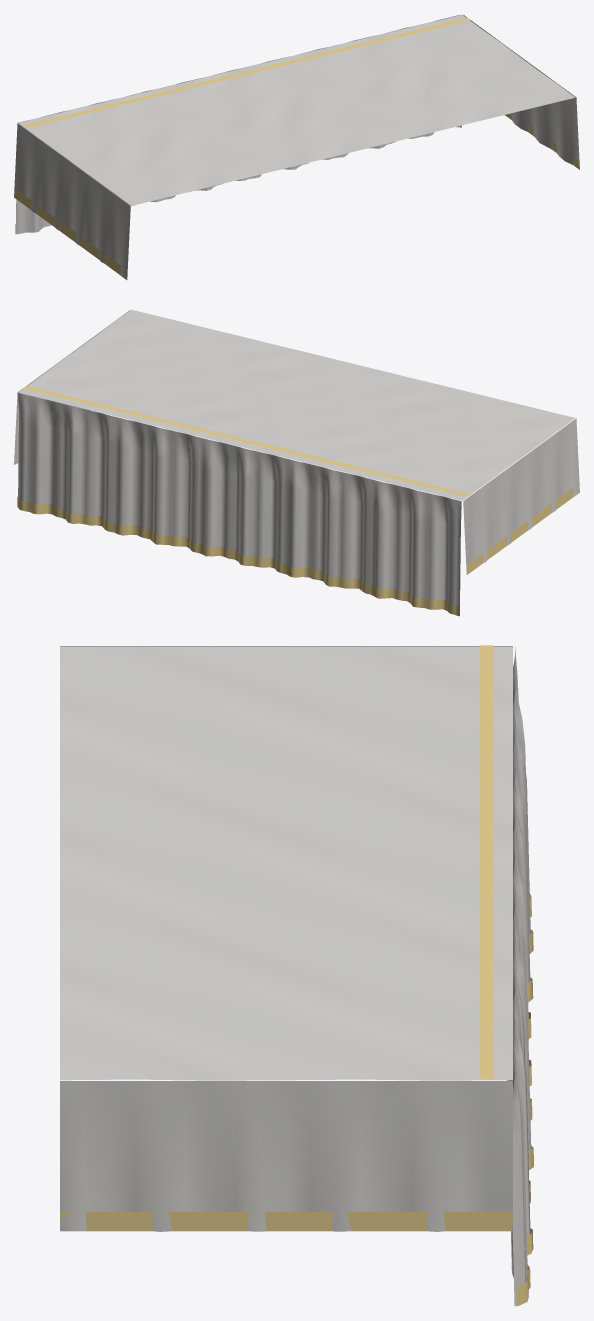
The model's file is lotprop__lot_chapel_nave_props_phone.glb.
3 views of the same model, one above another, from view 1: azimuth 30°, elevation 25°; view 2: azimuth 150°, elevation 25°; view 3: azimuth 270°, elevation 25° (orthographic). The views are drawn at different scales.
Visible parts, largest first — view 1: lotprop__lot_chapel_nave_props_phone; view 2: lotprop__lot_chapel_nave_props_phone; view 3: lotprop__lot_chapel_nave_props_phone.
Boxes of the visible parts, box(x1,y1,x2,y2) form: lotprop__lot_chapel_nave_props_phone: box(14, 14, 579, 279); lotprop__lot_chapel_nave_props_phone: box(14, 309, 579, 616); lotprop__lot_chapel_nave_props_phone: box(60, 645, 533, 1306).
Bounding box in the file's own units: 2.2 × 0.5275 × 0.9943.
